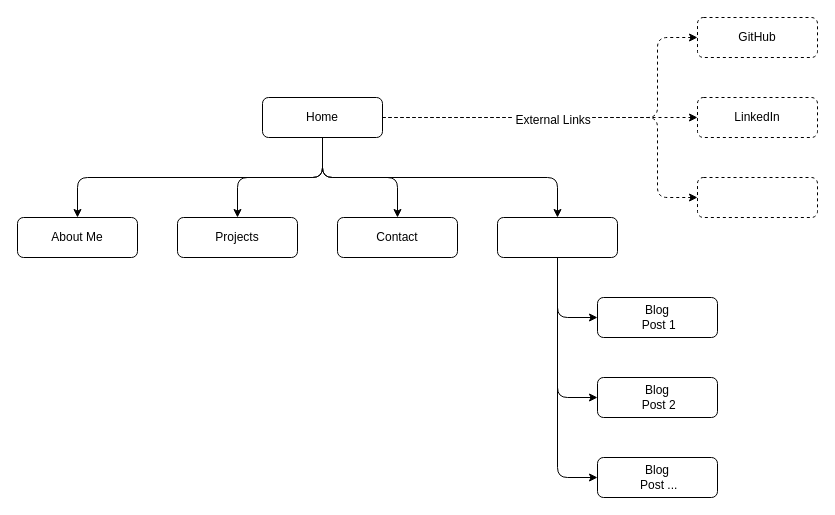
This 835x515 diagram has some shape labels left out. Here are the shapes that lost their labels. From the top down, the centre of each, then its label:
At point (757, 197): "Twitter".
At point (557, 237): "Blog".
